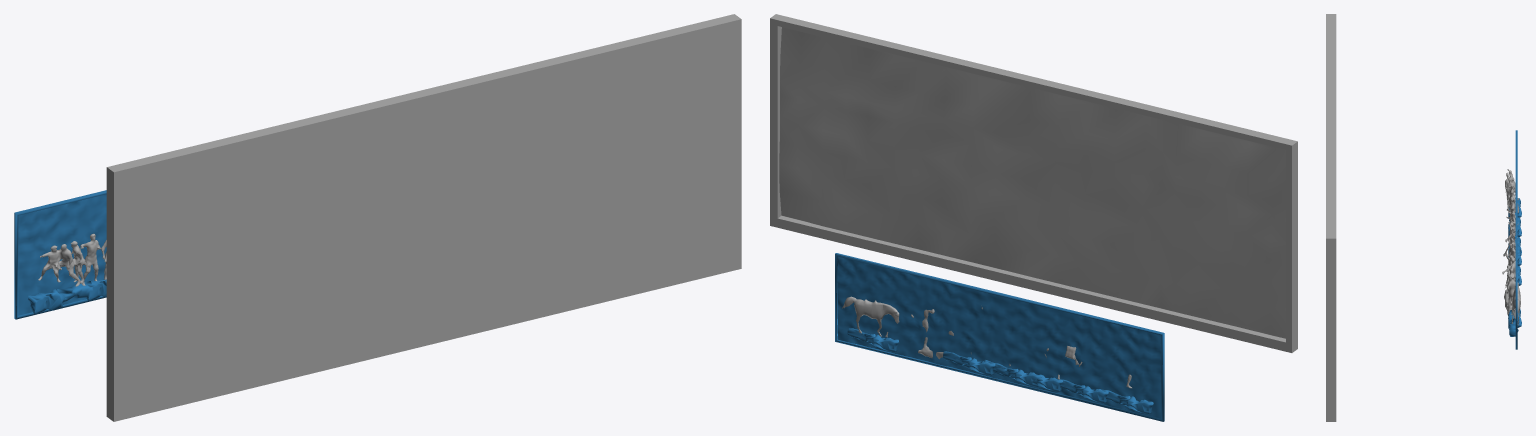
Rendered from 重大任务雕塑-2u.fbx.
3 views of the same model, side by side, from view 1: azimuth 30°, elevation 25°; view 2: azimuth 150°, elevation 25°; view 3: azimuth 270°, elevation 25° (orthographic). The views are drawn at different scales.
Visible parts, largest first — view 1: pCube1, diaosushikuai, _Group15958Shap1; view 2: fudiao, diaosushikuai, pCube1, _Group15958Shap1; view 3: pCube1, _Group15958Shap1, diaosushikuai.
Boxes of the visible parts, box(x1,y1,x2,y2) form: pCube1: box(106, 14, 741, 421); diaosushikuai: box(14, 190, 106, 319); _Group15958Shap1: box(38, 233, 106, 286); fudiao: box(779, 27, 1285, 338); diaosushikuai: box(835, 253, 1164, 421); pCube1: box(770, 14, 1297, 352); _Group15958Shap1: box(842, 296, 1131, 388); pCube1: box(1326, 14, 1336, 421); _Group15958Shap1: box(1502, 169, 1520, 325); diaosushikuai: box(1508, 130, 1521, 349).
Size of the model in its own units: 2764 by 1051 by 1018.
